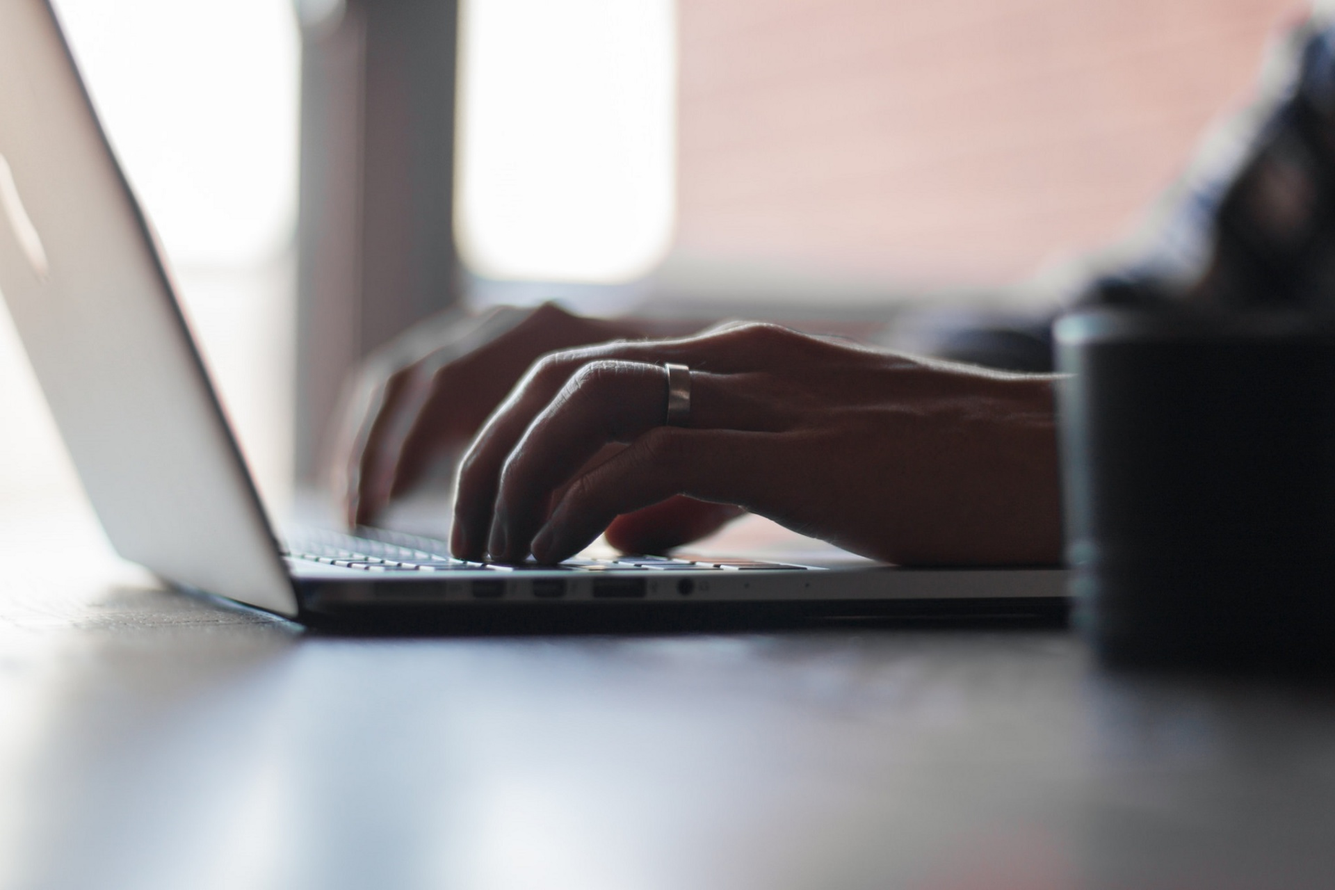Ordinateur: (384, 362, 693, 498)
